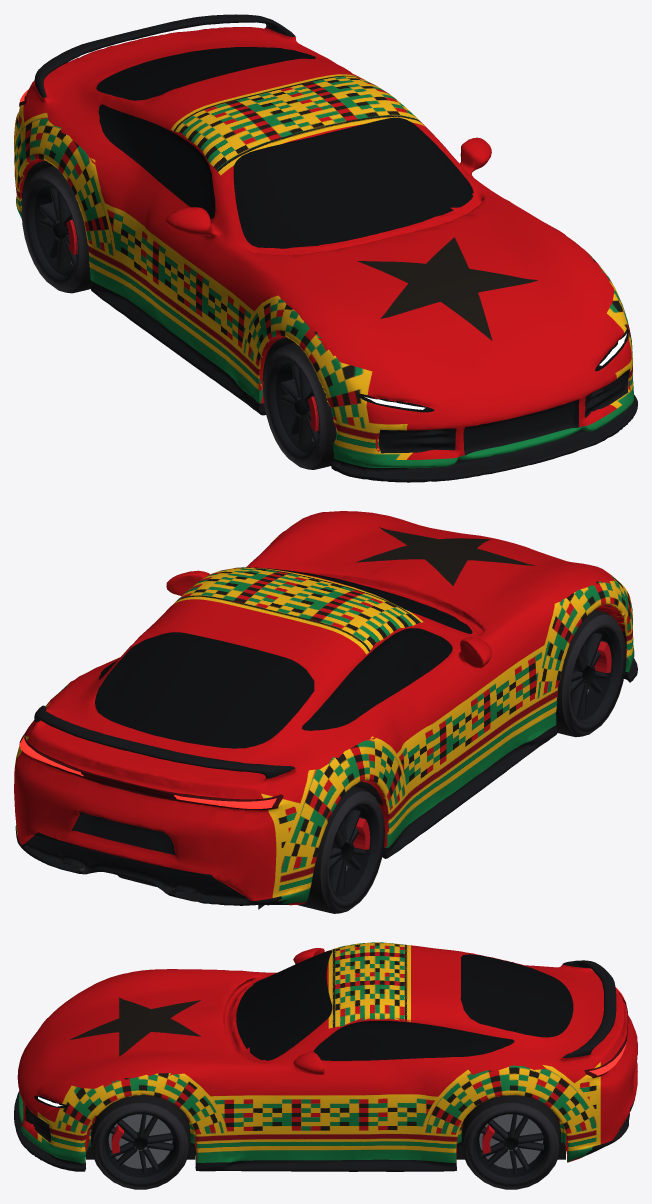
File: kente.glb
The picture shows the model from 3 angles, top to bottom: view 1: azimuth 30°, elevation 25°; view 2: azimuth 150°, elevation 25°; view 3: azimuth 270°, elevation 25°; orthographic projection. The views are drawn at different scales.
Visible parts, largest first — view 1: body, wheel_FR, wheel_RR; view 2: body, wheel_RR, wheel_FR; view 3: body, wheel_RL, wheel_FL.
Boxes of the visible parts, x1,y1,x2,y2 form: body: (14,14,637,482); wheel_FR: (263,342,336,469); wheel_RR: (21,165,91,293); body: (14,511,637,909); wheel_RR: (298,786,384,913); wheel_FR: (556,609,626,737); body: (14,942,637,1171); wheel_RL: (461,1095,560,1189); wheel_FL: (91,1094,190,1189).
Size of the model in its own units: 2.07 by 1.33 by 4.55.
18 materials, 4 textured.
